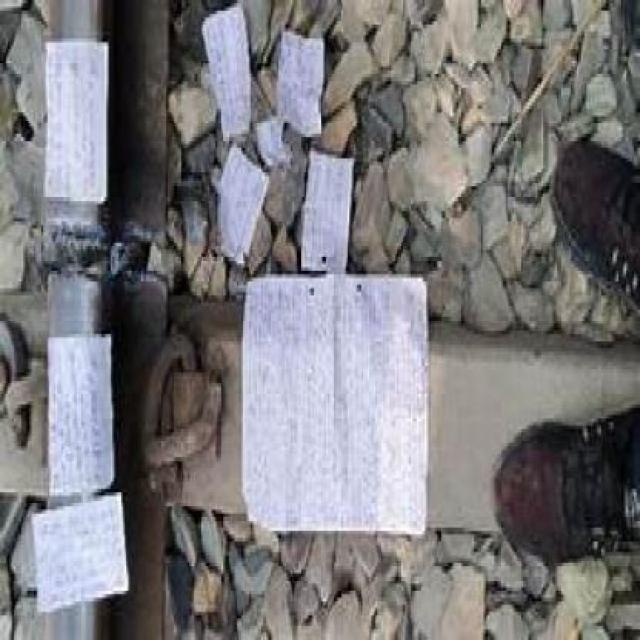defective: (27, 23, 168, 607)
